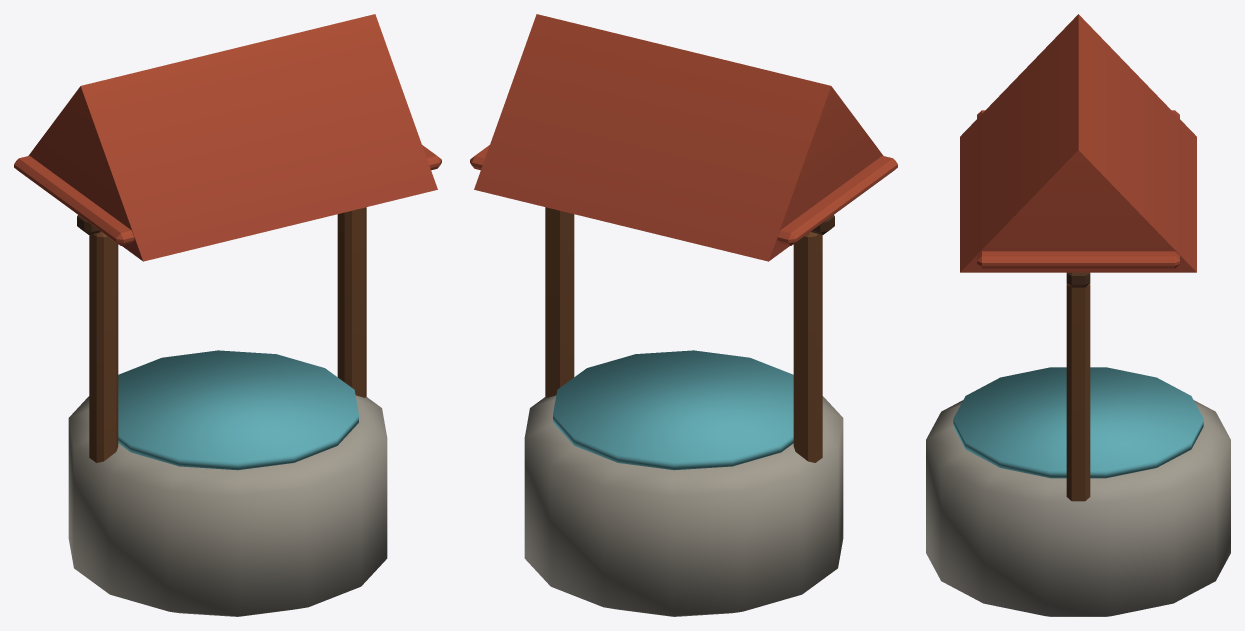
File: well.glb
The picture shows the model from 3 angles, left to right: view 1: azimuth 30°, elevation 25°; view 2: azimuth 150°, elevation 25°; view 3: azimuth 270°, elevation 25°; orthographic projection. The views are drawn at different scales.
Parts seen in each view (by area): view 1: well; view 2: well; view 3: well.
Boxes of the visible parts, <box> form: well: <box>14,14,441,616</box>; well: <box>470,14,897,616</box>; well: <box>926,14,1230,616</box>.
Size of the model in its own units: 2.1 by 3.15 by 1.8.
